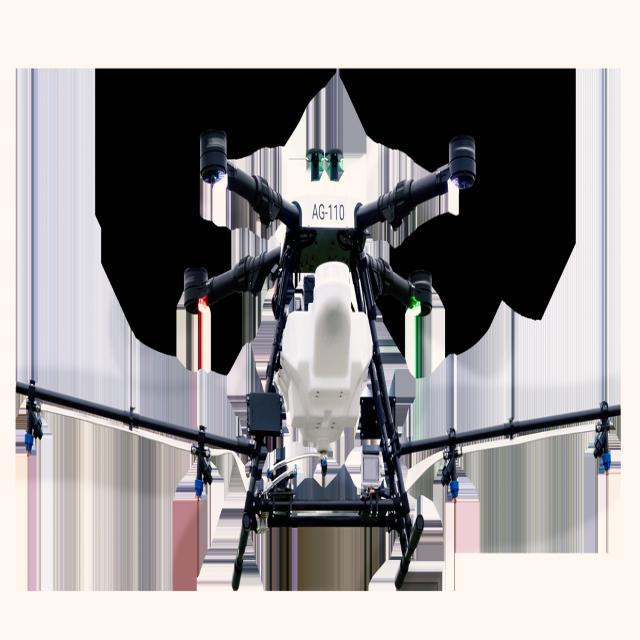drone: (151, 80, 622, 534)
